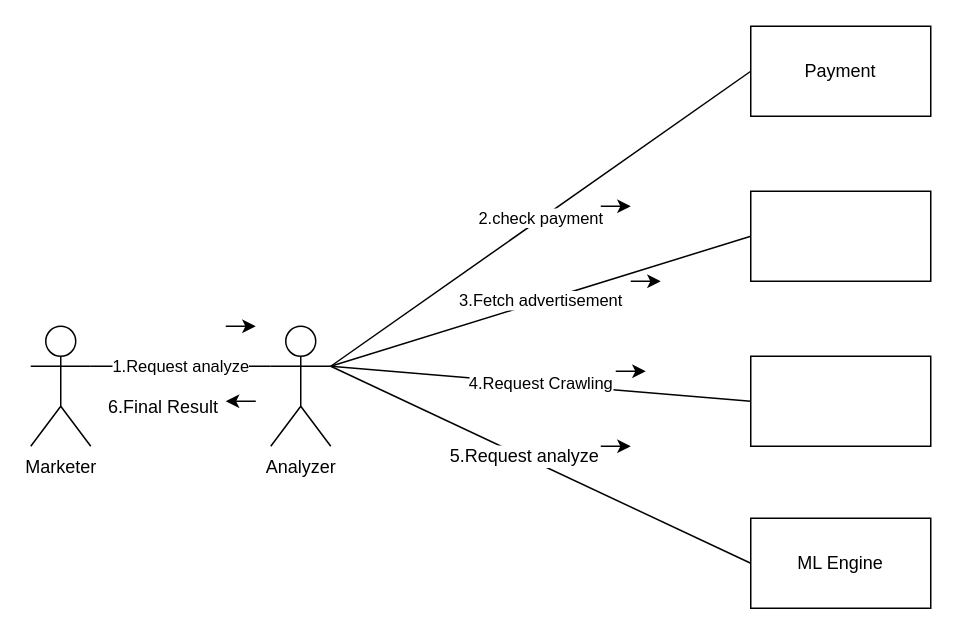
Some shapes in this 957 by 635 pixel diagram are drawn without their labels. Each missing label, with the centre of its shape:
"Advertisement" belongs at point (840, 235).
"Data Miner" belongs at point (840, 400).
